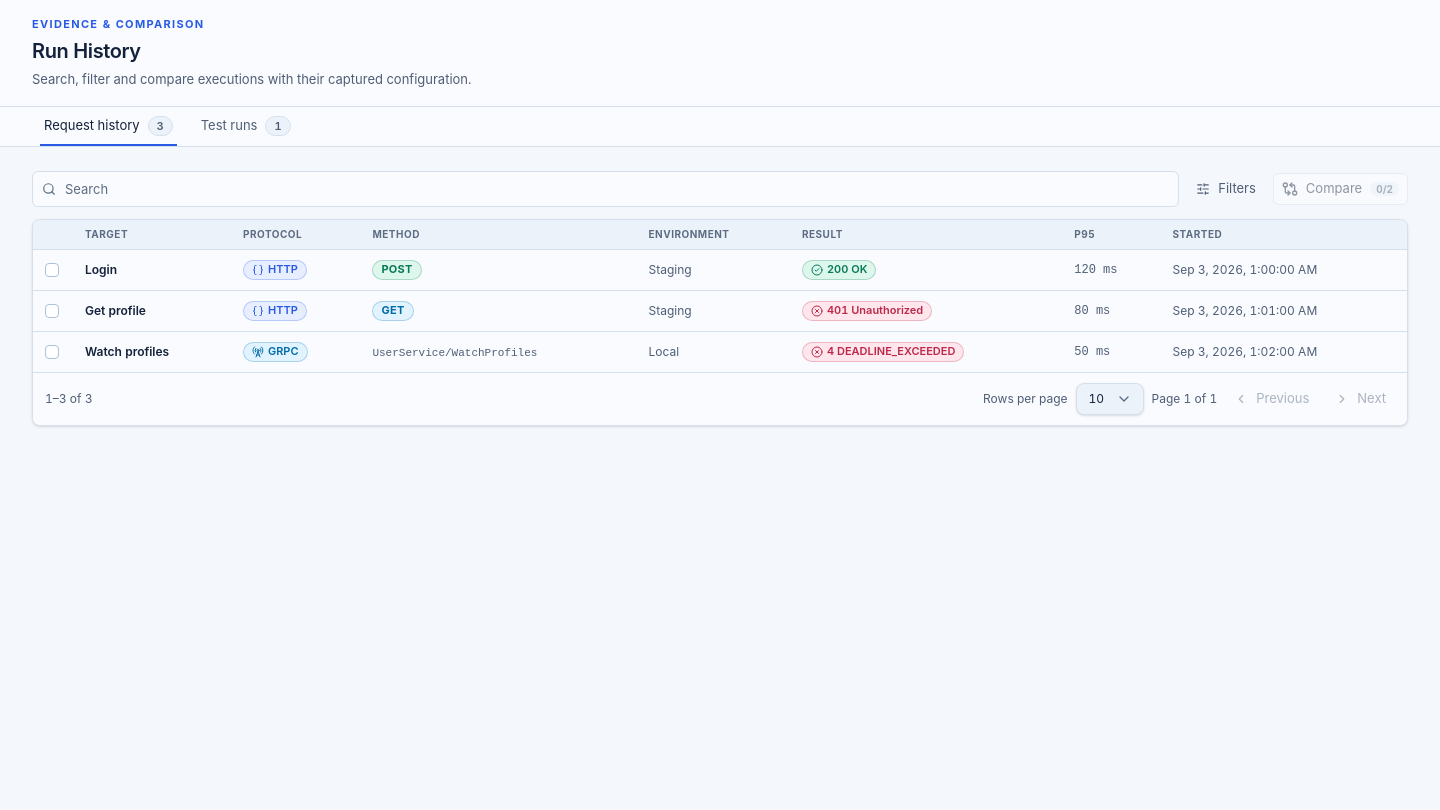
it: execution history › opens the compact filter drawer with all execution filter controls
Click the button "Filters" at [1226, 189], box [1187,173,1265,205]
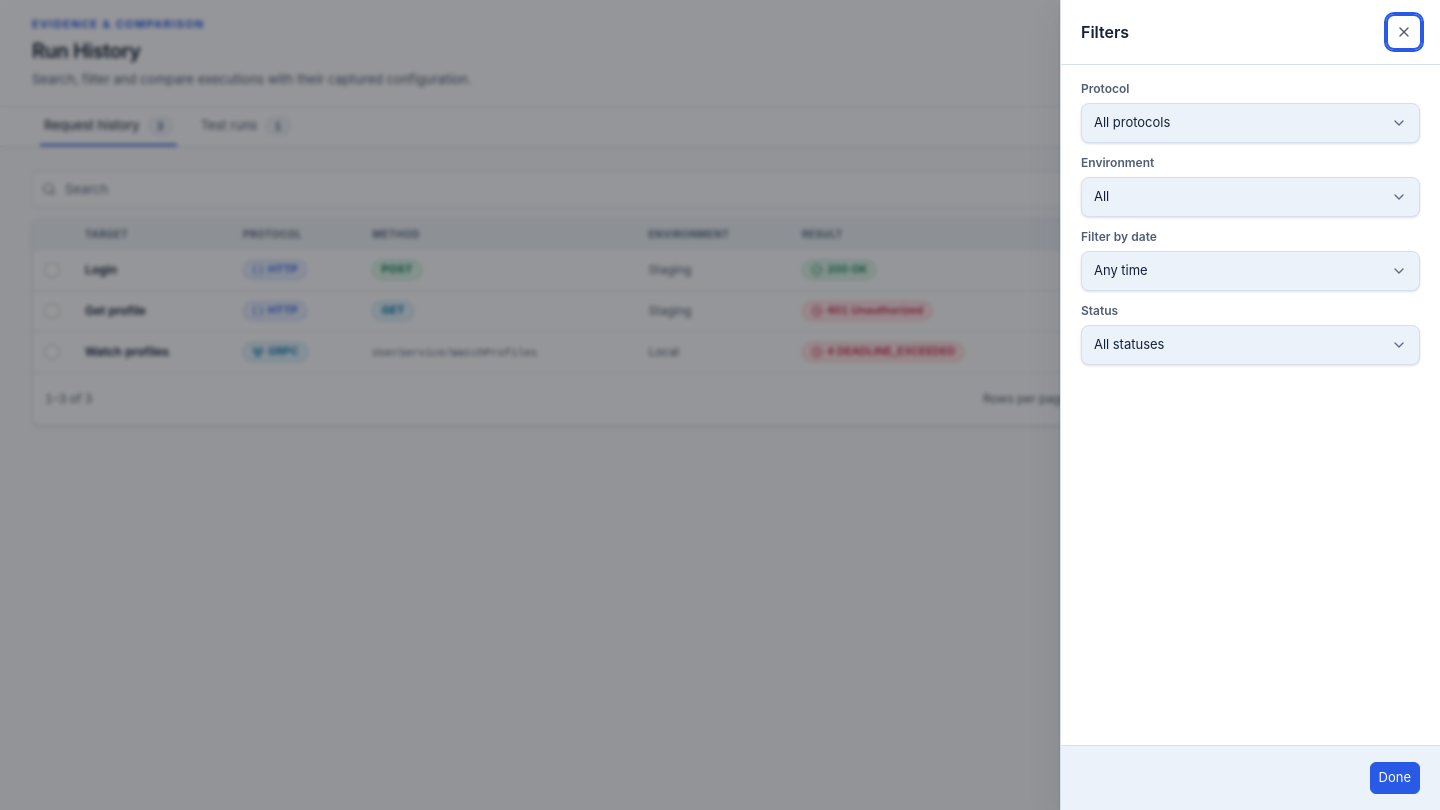
Expected: the dialog "Filters" is shown, [1060,0,1439,809]
Expected: the dropdown labelled "protocol" is shown, [1081,103,1420,143]
Expected: the dropdown named "Environment" is shown, [1081,177,1420,217]
